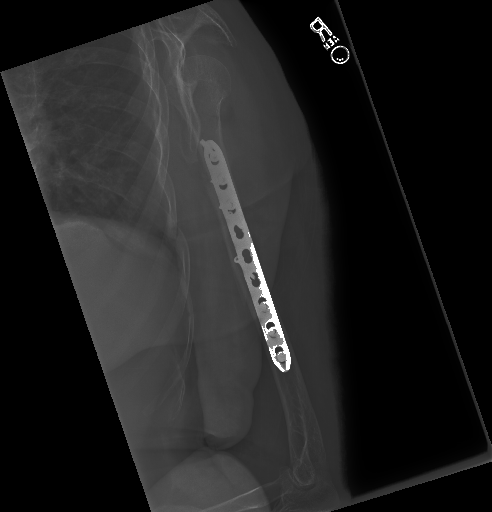implant: (197, 136, 292, 375)
